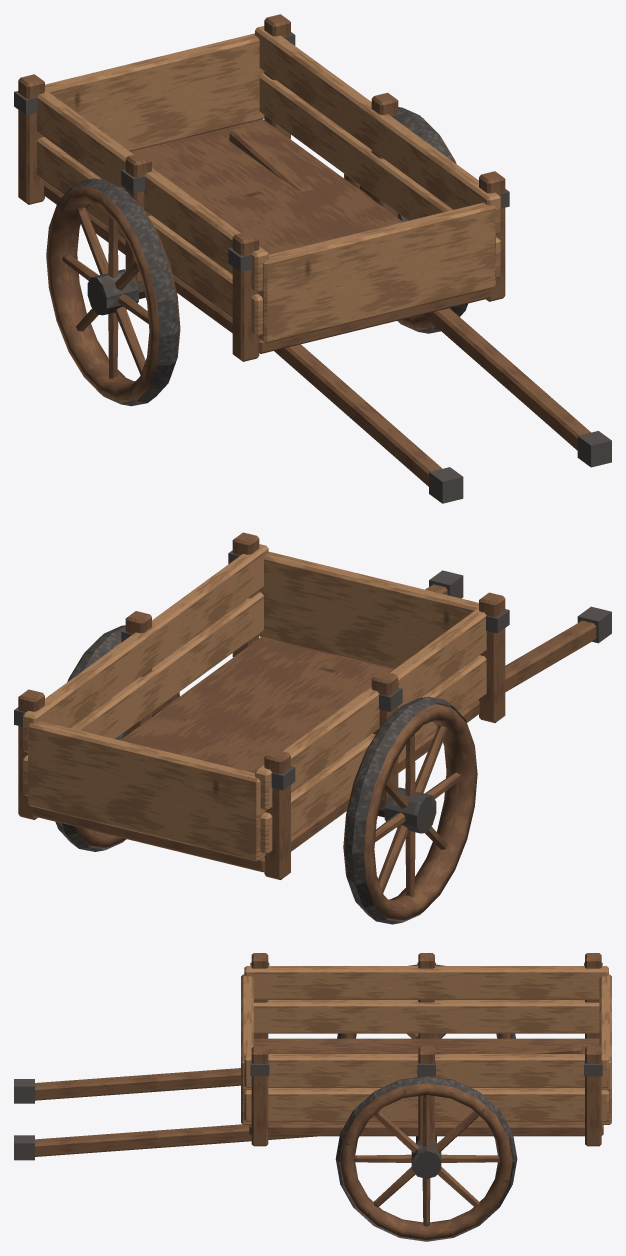
File: ev_cart.glb
3 renders of one model, top to bottom at view 1: azimuth 30°, elevation 25°; view 2: azimuth 150°, elevation 25°; view 3: azimuth 270°, elevation 25°, orthographic. The views are drawn at different scales.
Parts seen in each view (by area): view 1: ev_cart_cart; view 2: ev_cart_cart; view 3: ev_cart_cart.
Boxes of the visible parts, bbox=[...] form: ev_cart_cart: bbox=[14, 14, 611, 503]; ev_cart_cart: bbox=[14, 532, 611, 924]; ev_cart_cart: bbox=[14, 953, 611, 1241].
Size of what is drawn, in the model's own units: 1.42 by 0.966 by 2.87.
4 materials, 4 textured.
